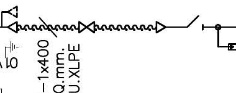terminator_single: (155, 20, 166, 34)
terminator_splicing_kits: (78, 21, 95, 34)
terminator_w_future: (0, 5, 18, 34)
